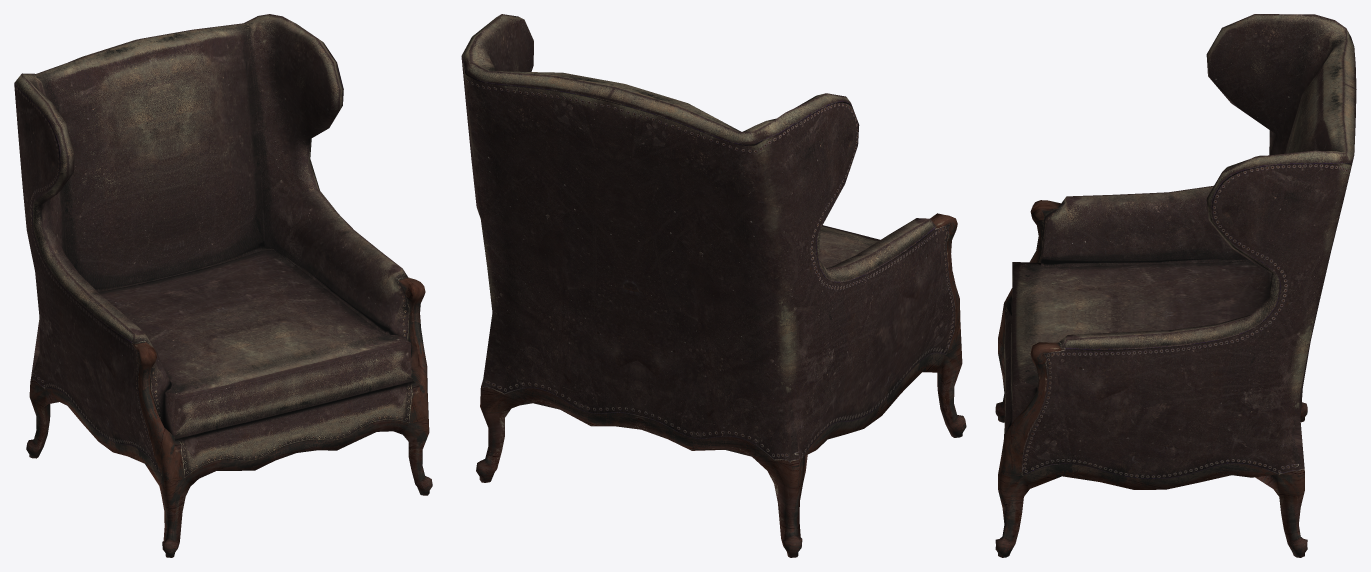
3 renders of one model, left to right at view 1: azimuth 30°, elevation 25°; view 2: azimuth 150°, elevation 25°; view 3: azimuth 270°, elevation 25°, orthographic. The views are drawn at different scales.
Parts seen in each view (by area): view 1: obj_ch8_91d8fe; view 2: obj_ch8_91d8fe; view 3: obj_ch8_91d8fe.
Part boxes in pixels (x1=…): obj_ch8_91d8fe: x1=14, y1=14, x2=432, y2=557; obj_ch8_91d8fe: x1=461, y1=14, x2=966, y2=557; obj_ch8_91d8fe: x1=995, y1=14, x2=1356, y2=557.
Size of the model in its own units: 0.6773 by 0.85 by 0.6854.
1 material, 1 textured.
